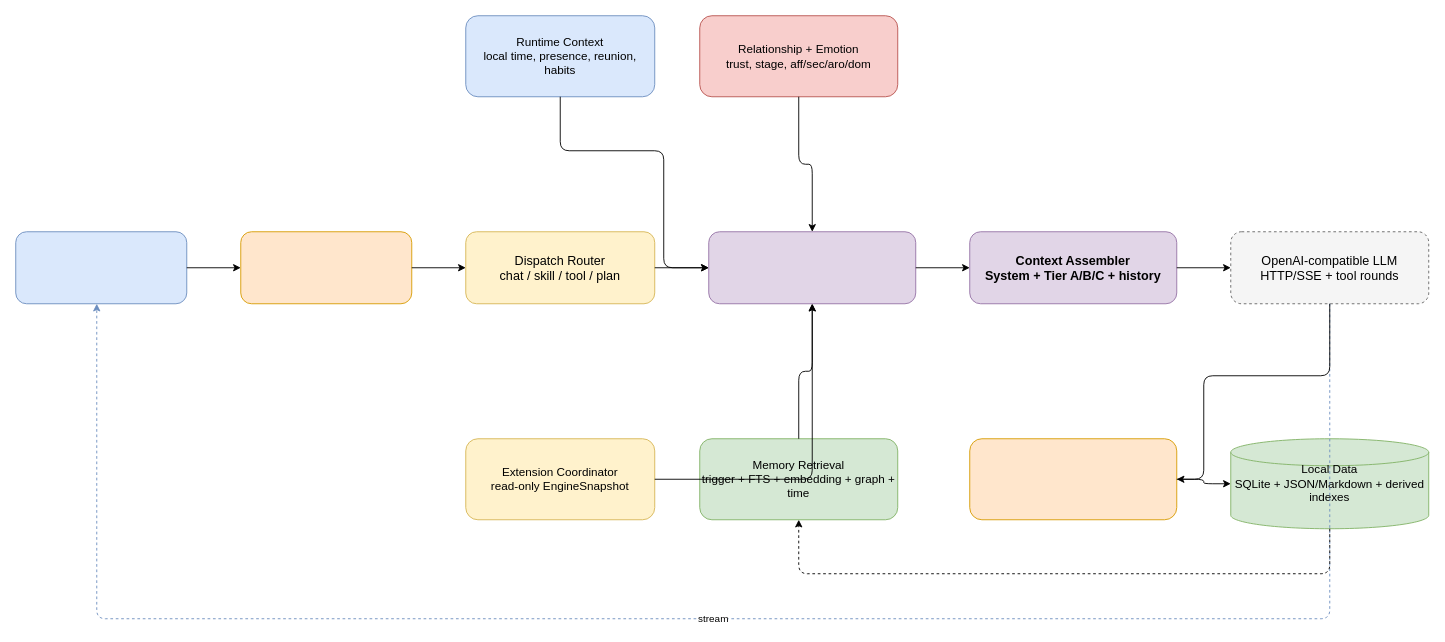
Image size: 1445x642. Some labels were removed from this diagram. The centre of each missing label's shape, as x and y in pixels:
Post-turn Pipeline sync light write + queued heavy extraction: (x=1073, y=479)
Pre-LLM Orchestrator L0-L4 turn preparation: (x=812, y=267)
Preload / IPC window.ackem.chat: (x=326, y=267)
Renderer ChatPage + Zustand: (x=101, y=267)
